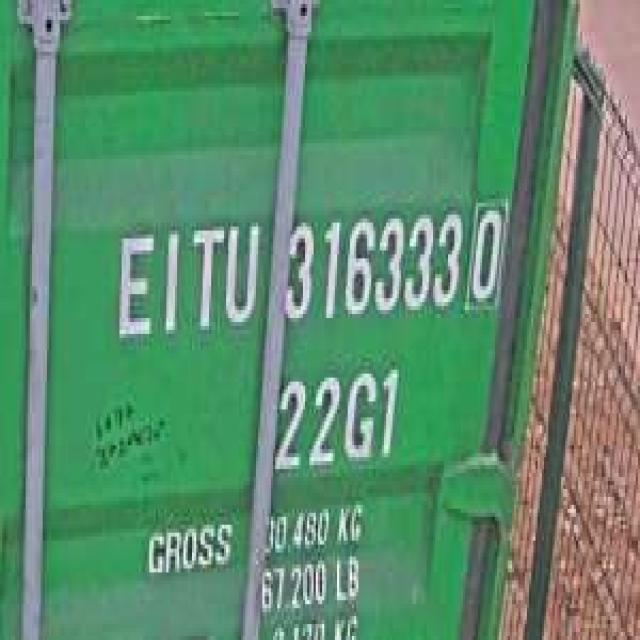dv: (465, 187, 510, 314)
owner: (107, 203, 262, 354)
serial: (279, 195, 463, 334)
size: (269, 358, 401, 481)
